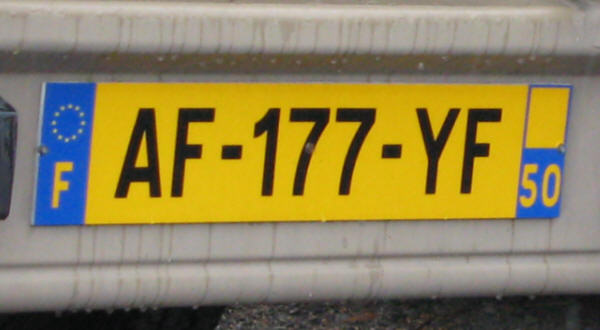license_plate: (33, 84, 572, 226)
